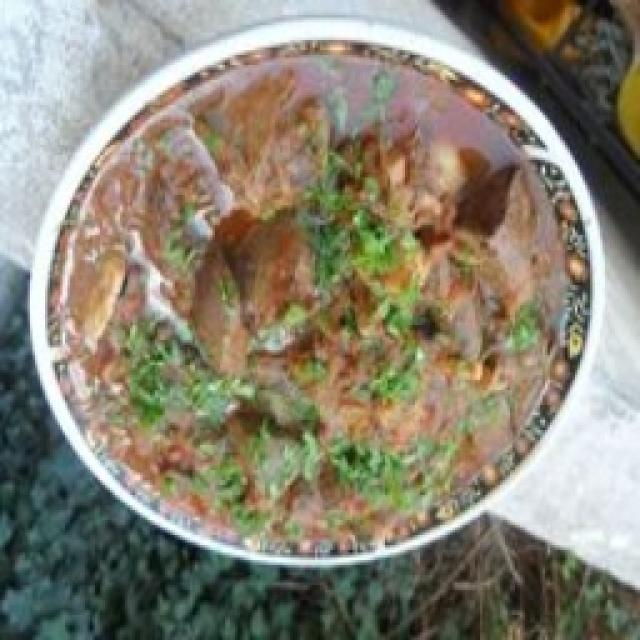Kamouniya: (32, 22, 600, 562)
